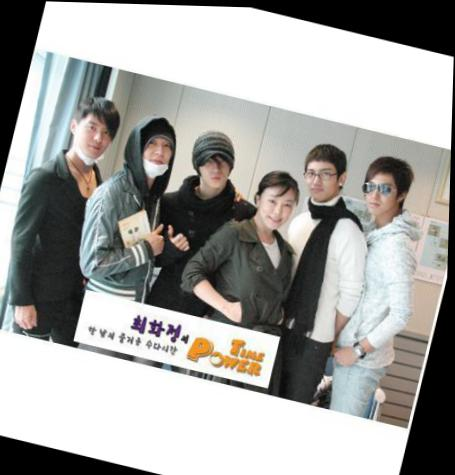NONE: (359, 173, 399, 218), (257, 188, 297, 231), (301, 160, 339, 203), (196, 151, 235, 192)
WRONG: (74, 118, 116, 166), (138, 134, 179, 180)
